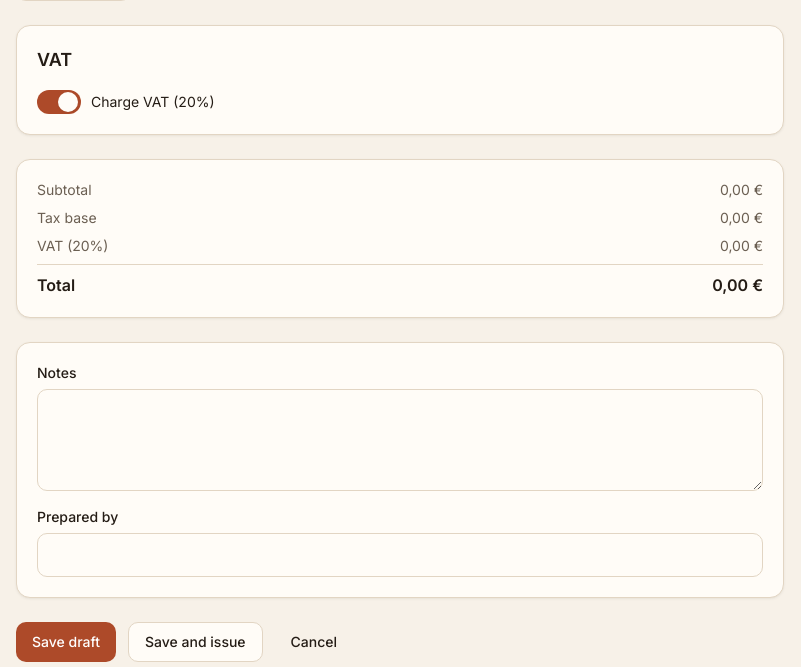
Test: DocumentComposerPage — new document › resolves the English messages without missing-key warnings
(page scrolled)
Check: the heading "VAT" is shown, box [37,49,72,70]
Check: the text "Charge VAT (20%)" is shown, box [37,90,215,114]
Step 1. Click the button "Save draft" → (66, 642), box [16,622,116,662]
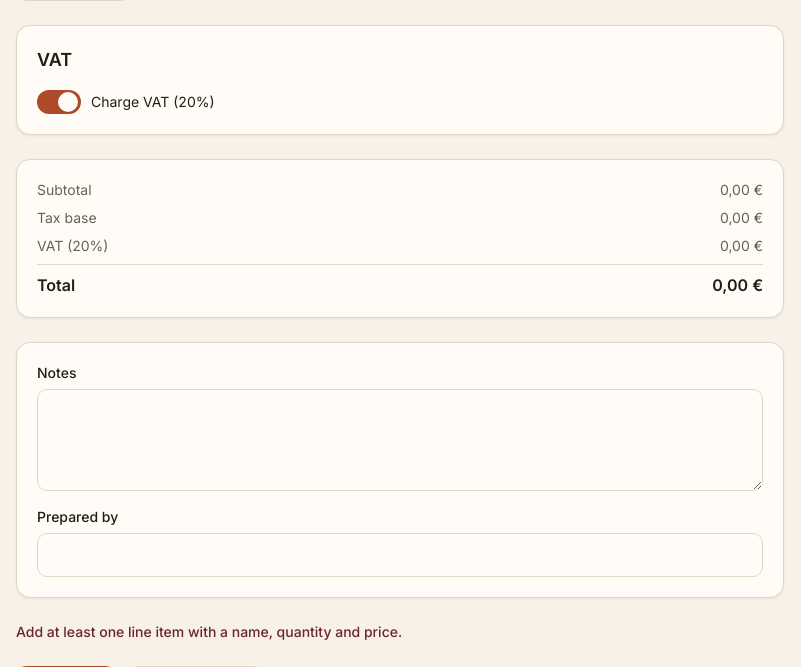
Check: the text "Add at least one line item with a name, quantity and price." is shown, box [16,623,402,640]
